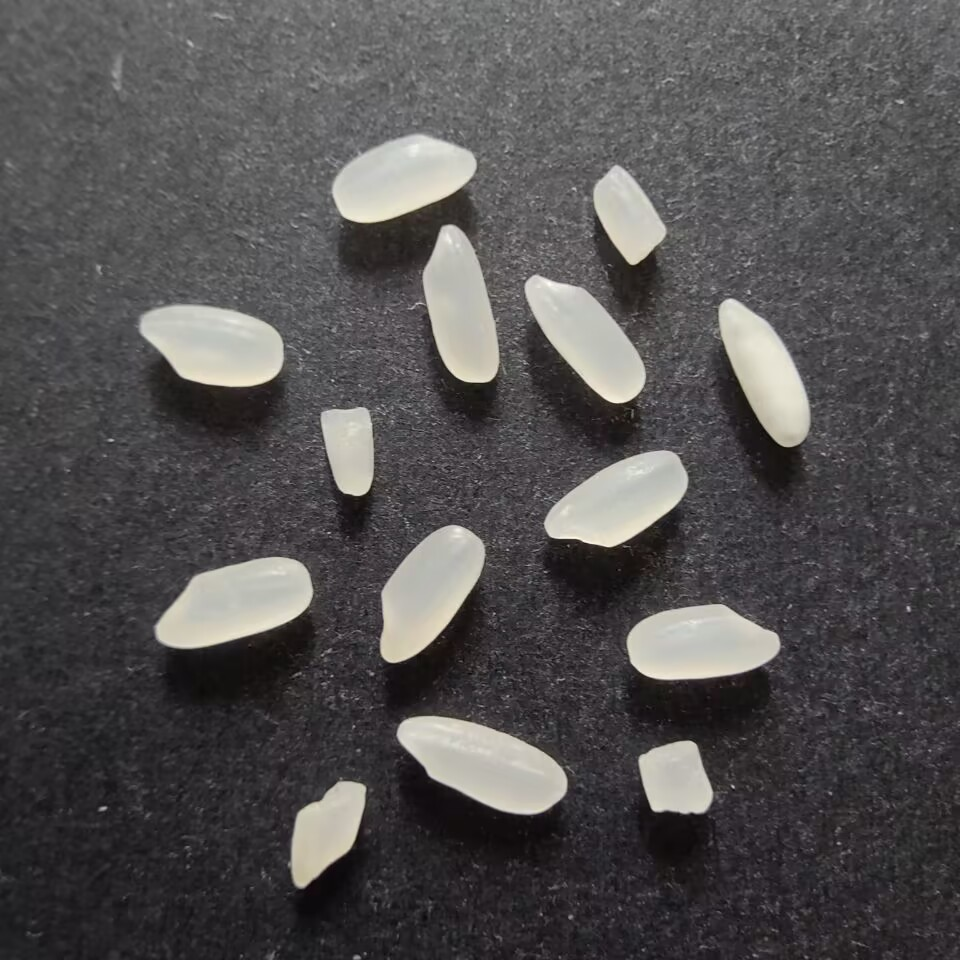broken: (286, 775, 370, 894), (590, 163, 670, 270), (632, 736, 718, 824), (315, 403, 379, 500)
rice: (391, 712, 571, 819), (522, 270, 648, 407), (373, 520, 488, 668), (150, 552, 314, 654), (715, 294, 816, 451), (539, 446, 691, 550), (330, 131, 481, 227), (622, 598, 783, 686), (418, 219, 500, 388), (134, 303, 289, 391)
